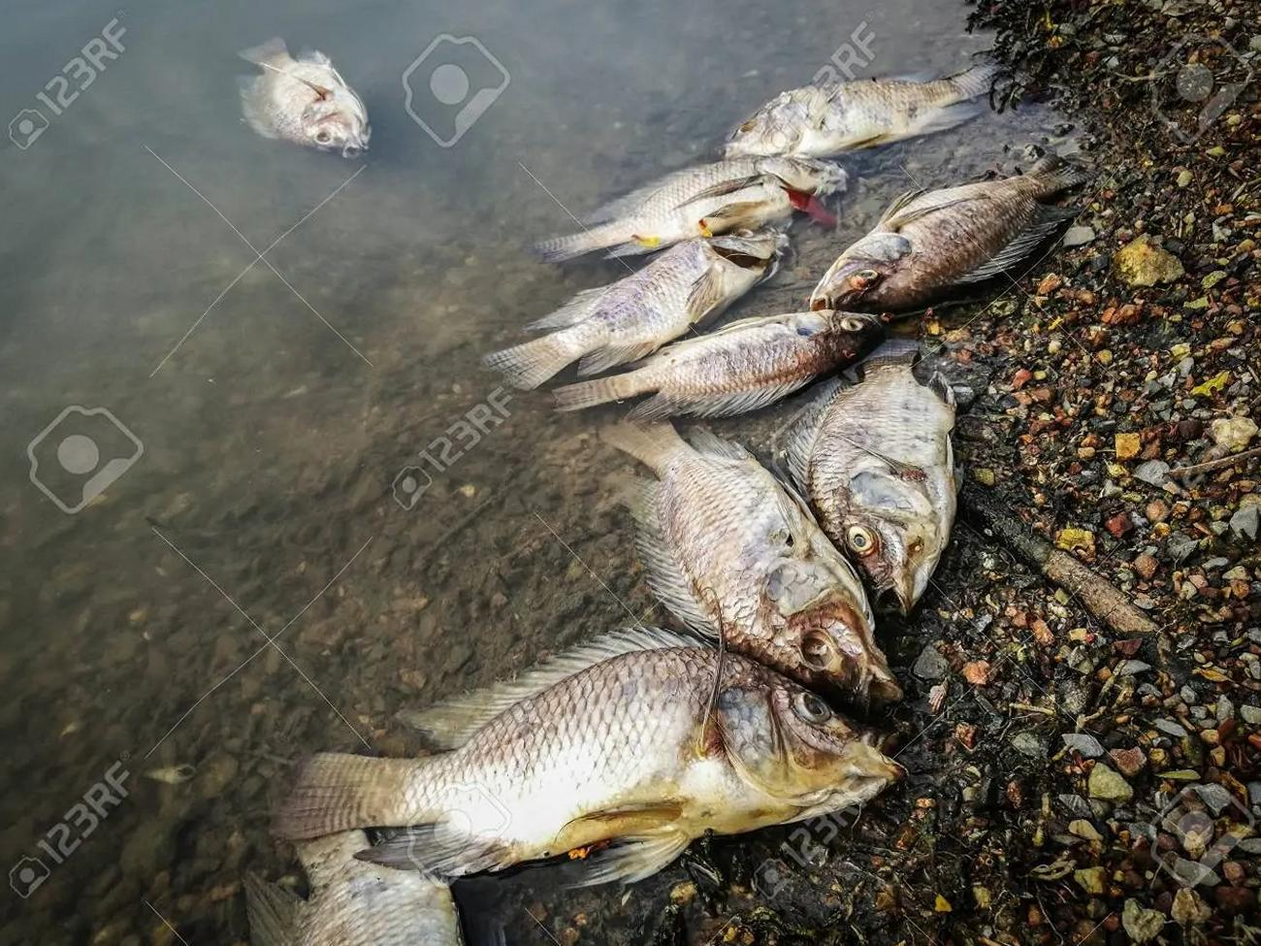Dead Animals Pollution: (391, 35, 1013, 853)
